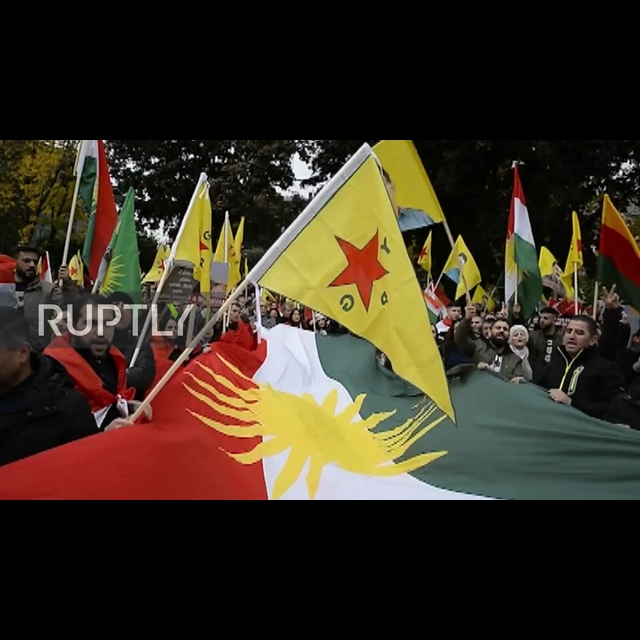IBKY: (189, 354, 506, 497)
YPG: (321, 223, 402, 319)
